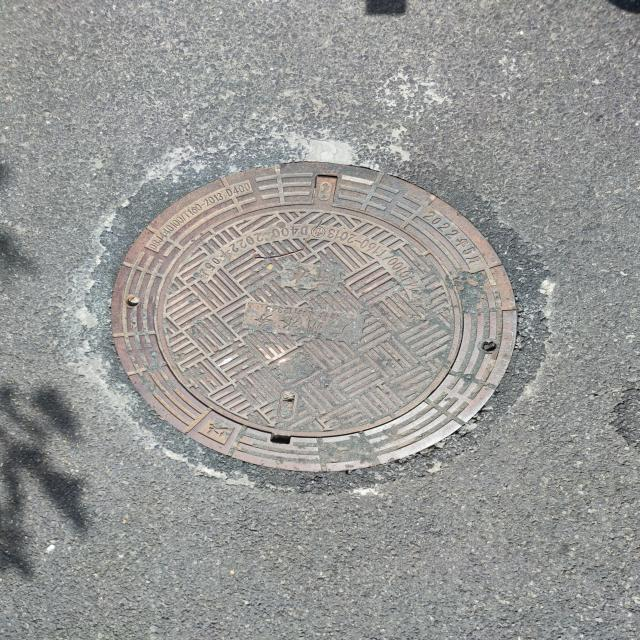Good: (103, 157, 527, 480)
